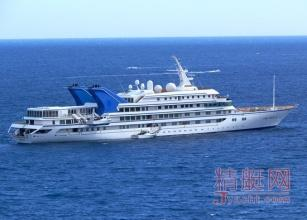yacht: (10, 70, 298, 140)
